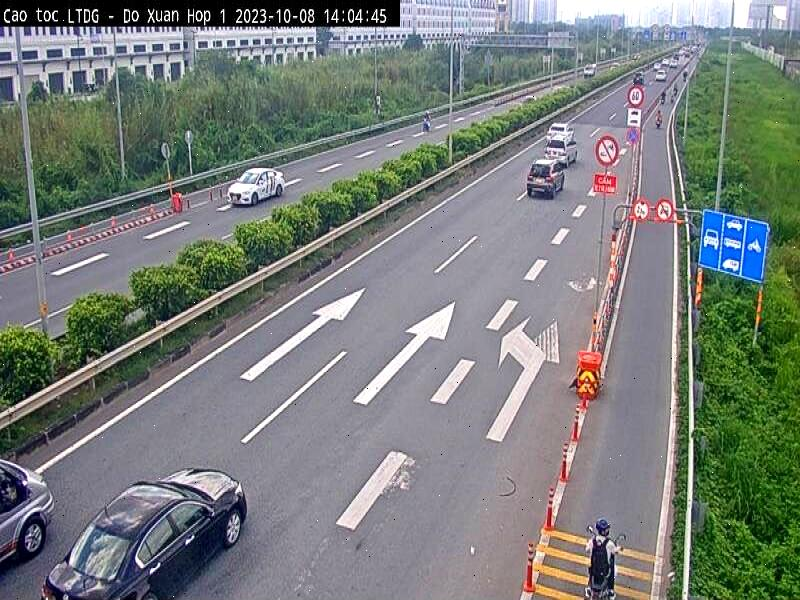car: (40, 468, 250, 598), (0, 452, 55, 589), (225, 168, 284, 207), (526, 160, 570, 199)
